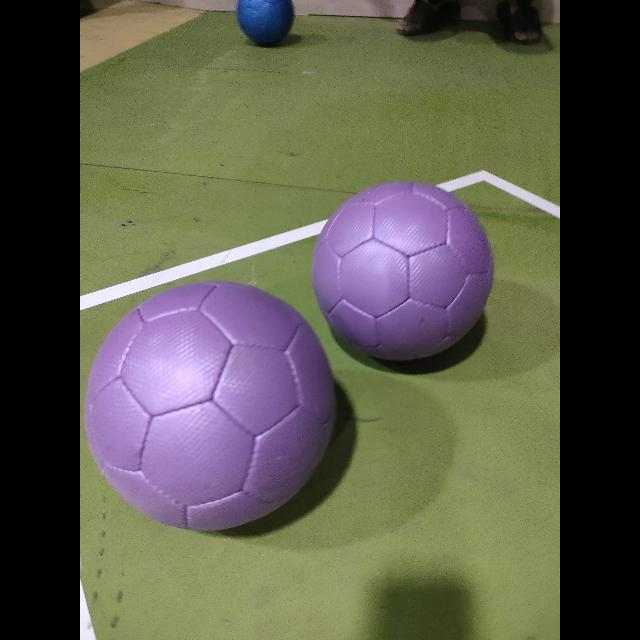B: (236, 0, 294, 46)
P: (86, 282, 334, 530), (312, 182, 493, 360)
